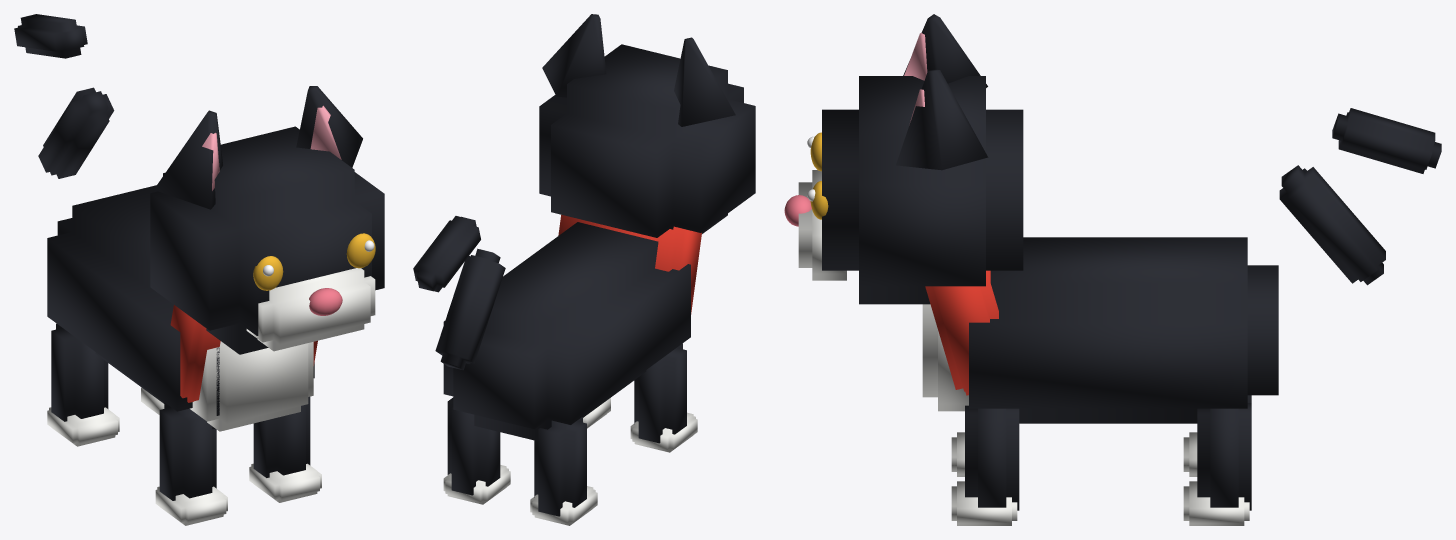
The model's file is Pet_Cat_Tuxedo.glb.
3 renders of one model, left to right at view 1: azimuth 30°, elevation 25°; view 2: azimuth 150°, elevation 25°; view 3: azimuth 270°, elevation 25°, orthographic. The views are drawn at different scales.
Visible parts, largest first — view 1: Pet_Cat_Tuxedo_Head, Pet_Cat_Tuxedo_Body, Pet_Cat_Tuxedo_Chest, Pet_Cat_Tuxedo_Cheeks, Pet_Cat_Tuxedo_Leg_F-1, Pet_Cat_Tuxedo_Leg_B-1, Pet_Cat_Tuxedo_Tail1, Pet_Cat_Tuxedo_Ear_-1, Pet_Cat_Tuxedo_Leg_F1, Pet_Cat_Tuxedo_Tail2, Pet_Cat_Tuxedo_Collar, Pet_Cat_Tuxedo_Ear_1 (+7 smaller); view 2: Pet_Cat_Tuxedo_Body, Pet_Cat_Tuxedo_Head, Pet_Cat_Tuxedo_Tail1, Pet_Cat_Tuxedo_Leg_B-1, Pet_Cat_Tuxedo_Leg_F-1, Pet_Cat_Tuxedo_Leg_B1, Pet_Cat_Tuxedo_Ear_-1, Pet_Cat_Tuxedo_Tail2, Pet_Cat_Tuxedo_Ear_1, Pet_Cat_Tuxedo_Collar, Pet_Cat_Tuxedo_Paw_F-1, Pet_Cat_Tuxedo_Paw_B-1 (+1 smaller); view 3: Pet_Cat_Tuxedo_Body, Pet_Cat_Tuxedo_Head, Pet_Cat_Tuxedo_Tail1, Pet_Cat_Tuxedo_Leg_B1, Pet_Cat_Tuxedo_Leg_F1, Pet_Cat_Tuxedo_Ear_1, Pet_Cat_Tuxedo_Tail2, Pet_Cat_Tuxedo_Collar, Pet_Cat_Tuxedo_Chest, Pet_Cat_Tuxedo_Ear_-1, Pet_Cat_Tuxedo_Cheeks, Pet_Cat_Tuxedo_Paw_B1 (+1 smaller).
Part boxes in pixels (x1,y1,x2,y2): Pet_Cat_Tuxedo_Head: (150, 126, 384, 354); Pet_Cat_Tuxedo_Body: (47, 185, 314, 428); Pet_Cat_Tuxedo_Chest: (190, 341, 313, 431); Pet_Cat_Tuxedo_Cheeks: (246, 268, 375, 351); Pet_Cat_Tuxedo_Leg_F-1: (159, 403, 216, 500); Pet_Cat_Tuxedo_Leg_B-1: (51, 323, 108, 421); Pet_Cat_Tuxedo_Tail1: (38, 87, 114, 178); Pet_Cat_Tuxedo_Ear_-1: (154, 110, 222, 209); Pet_Cat_Tuxedo_Leg_F1: (253, 396, 310, 477); Pet_Cat_Tuxedo_Tail2: (14, 14, 87, 58); Pet_Cat_Tuxedo_Collar: (170, 305, 317, 402); Pet_Cat_Tuxedo_Ear_1: (296, 86, 362, 167); Pet_Cat_Tuxedo_Body: (443, 222, 690, 441); Pet_Cat_Tuxedo_Head: (539, 44, 755, 237); Pet_Cat_Tuxedo_Tail1: (435, 248, 505, 370); Pet_Cat_Tuxedo_Leg_B-1: (534, 417, 586, 516); Pet_Cat_Tuxedo_Leg_F-1: (634, 343, 686, 443); Pet_Cat_Tuxedo_Leg_B1: (447, 397, 500, 495); Pet_Cat_Tuxedo_Ear_-1: (674, 37, 735, 126); Pet_Cat_Tuxedo_Tail2: (413, 216, 480, 292); Pet_Cat_Tuxedo_Ear_1: (542, 14, 606, 97); Pet_Cat_Tuxedo_Collar: (558, 214, 701, 314); Pet_Cat_Tuxedo_Paw_F-1: (630, 412, 697, 452); Pet_Cat_Tuxedo_Paw_B-1: (530, 486, 597, 525); Pet_Cat_Tuxedo_Body: (969, 237, 1278, 423); Pet_Cat_Tuxedo_Head: (822, 76, 1023, 304); Pet_Cat_Tuxedo_Tail1: (1279, 165, 1385, 285); Pet_Cat_Tuxedo_Leg_B1: (1197, 403, 1251, 510); Pet_Cat_Tuxedo_Leg_F1: (965, 405, 1019, 510); Pet_Cat_Tuxedo_Ear_1: (896, 69, 988, 170); Pet_Cat_Tuxedo_Tail2: (1332, 108, 1441, 173); Pet_Cat_Tuxedo_Collar: (925, 270, 998, 395); Pet_Cat_Tuxedo_Chest: (922, 304, 968, 411); Pet_Cat_Tuxedo_Ear_-1: (903, 14, 987, 87); Pet_Cat_Tuxedo_Cheeks: (798, 170, 846, 280); Pet_Cat_Tuxedo_Paw_B1: (1183, 481, 1249, 525).
Bounding box in the file's own units: 0.3354 × 0.6399 × 0.8488.
